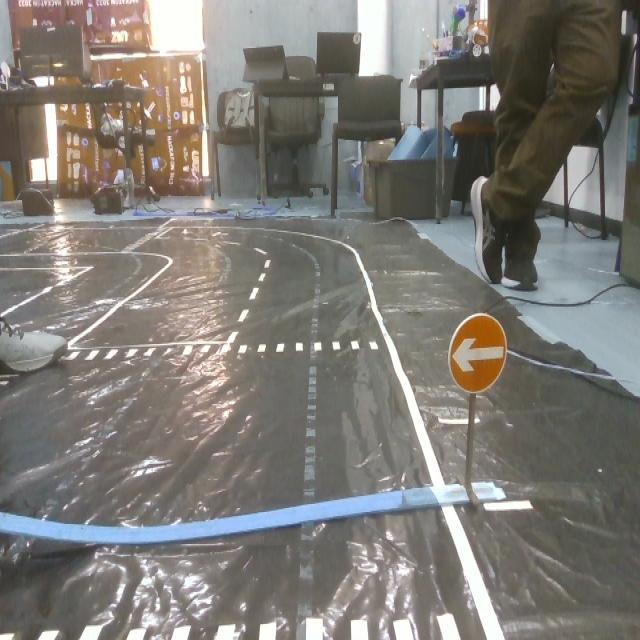forward: (444, 311, 516, 397)
